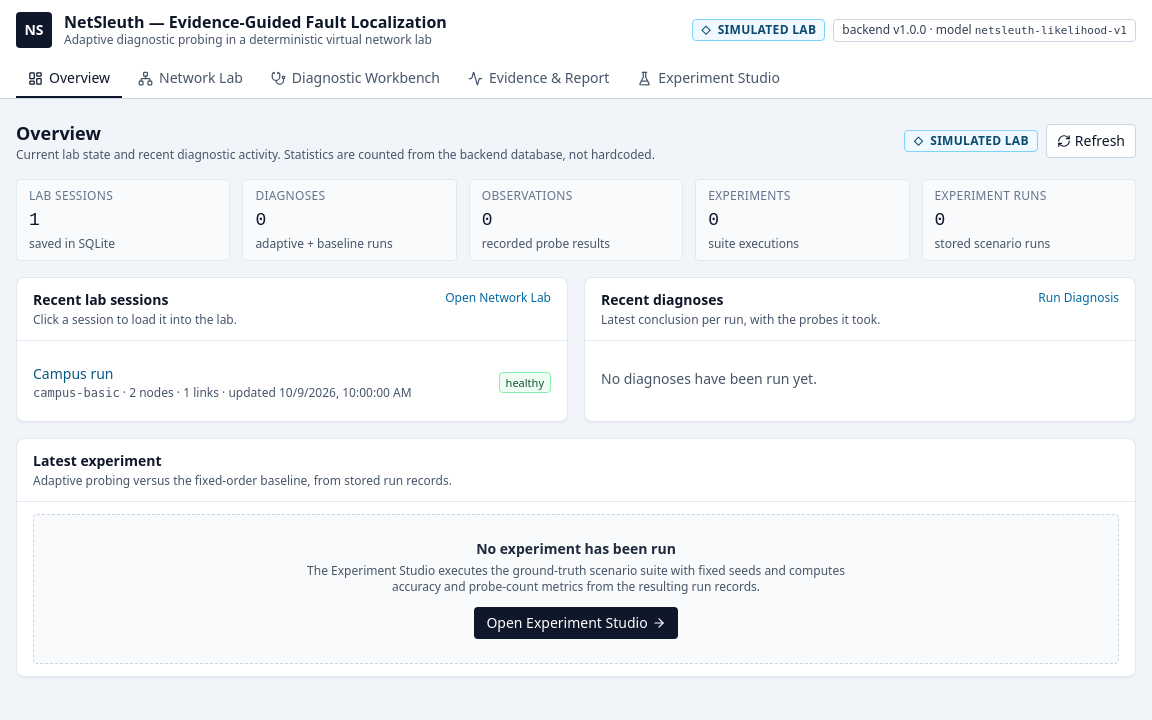
Test: Overview page › loads a recent session into the lab when clicked
Click the button "Campus run".
click(73, 374)  # box top-left (33, 364), bottom-right (114, 384)
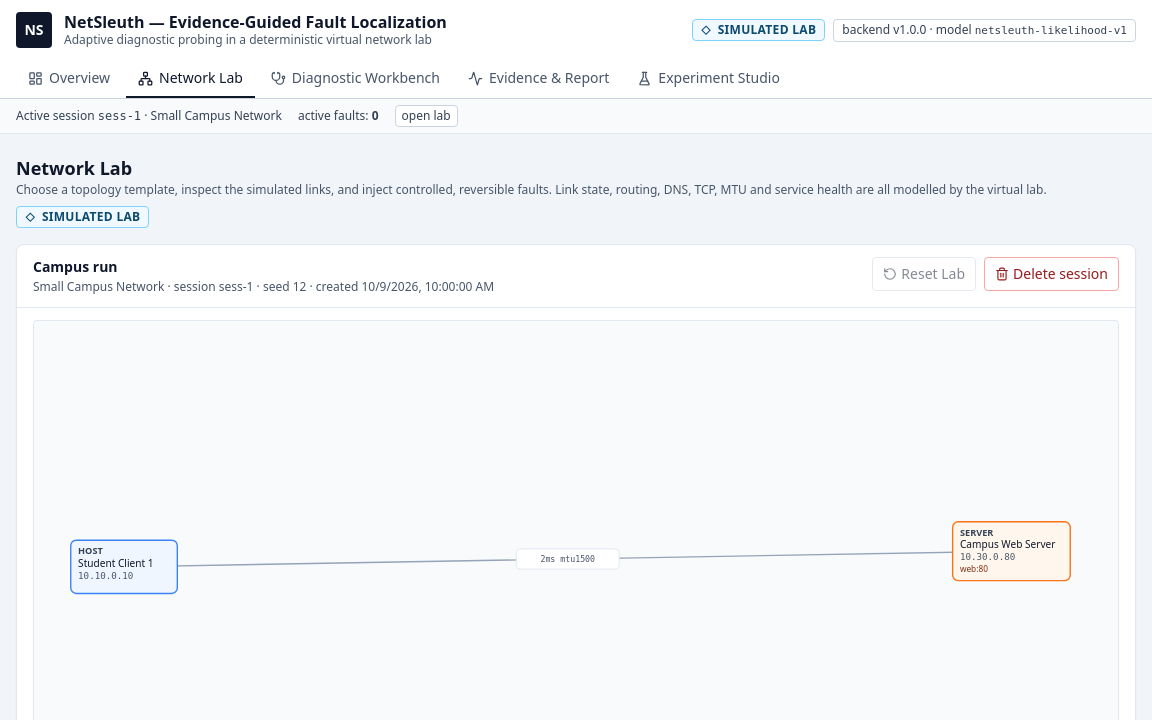
Expected: the text "Active session sess-1 · Small Campus Network" is shown, top-left (16, 108), bottom-right (282, 124)
Expected: the text "sess-1" is shown, top-left (98, 109), bottom-right (141, 123)
